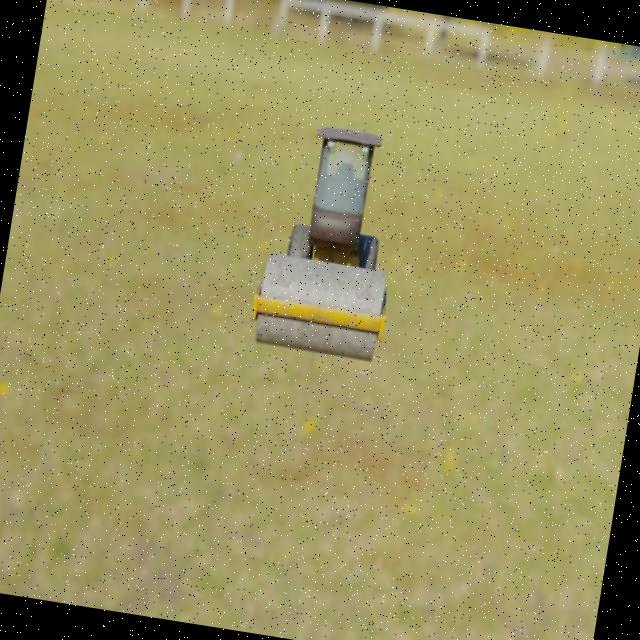Roller: (246, 118, 414, 364)
